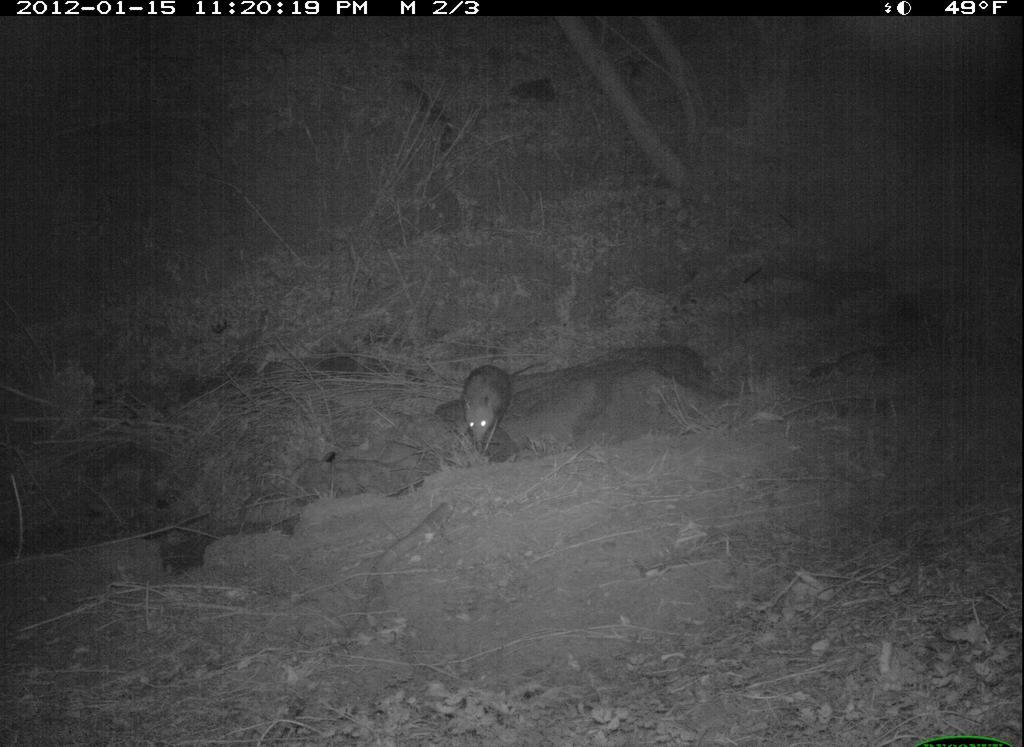opossum: (461, 355, 547, 457)
